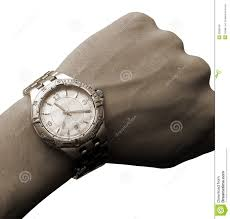clock: (39, 85, 96, 141)
